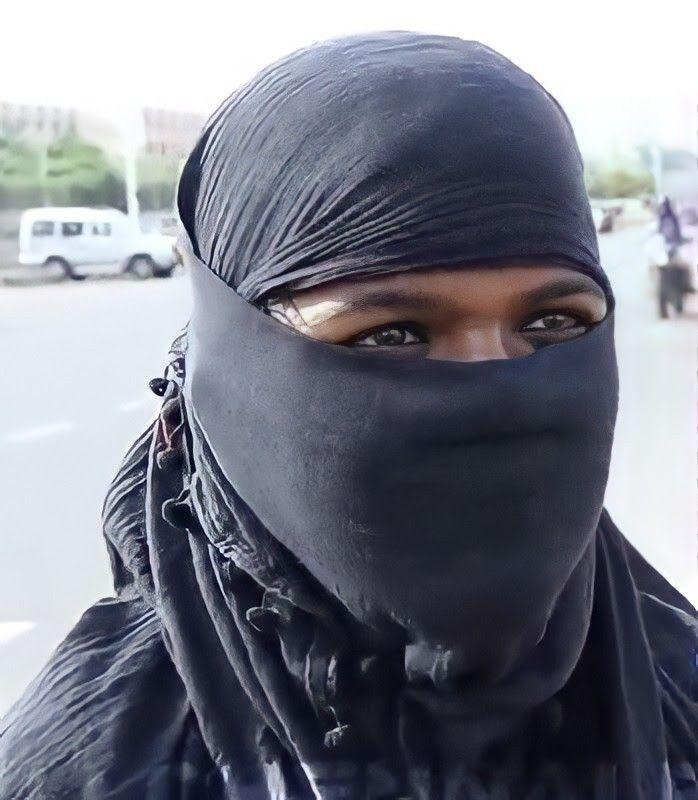scarf-kerchief: (143, 18, 643, 674)
